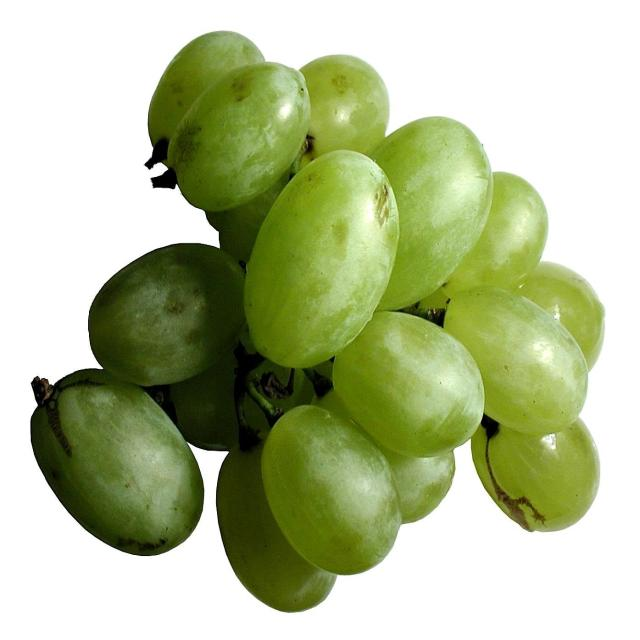grape: (22, 366, 212, 556), (260, 404, 429, 574), (435, 272, 608, 434), (78, 239, 257, 393), (280, 167, 408, 365), (220, 448, 348, 616), (476, 389, 612, 541), (381, 115, 494, 291), (164, 328, 313, 461), (327, 329, 492, 445), (491, 245, 616, 382), (290, 40, 411, 178), (192, 73, 306, 198), (157, 40, 272, 162), (454, 185, 561, 298)
